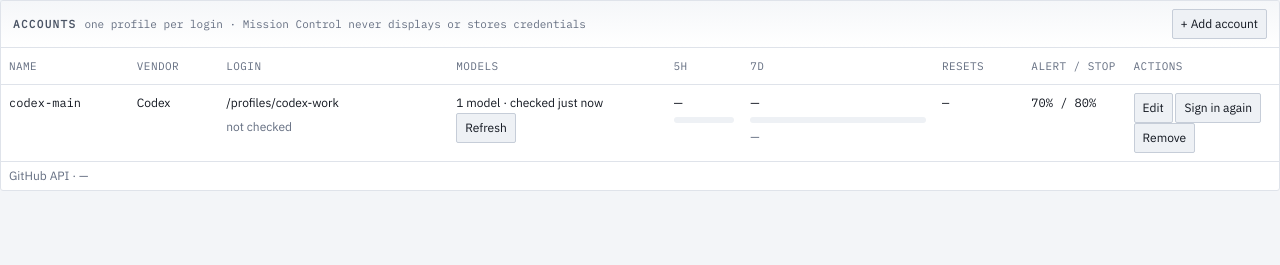
uses the selected Codex profile in the operator command
Click the button "Sign in again" at (1218, 108), box [1176,93,1261,123]
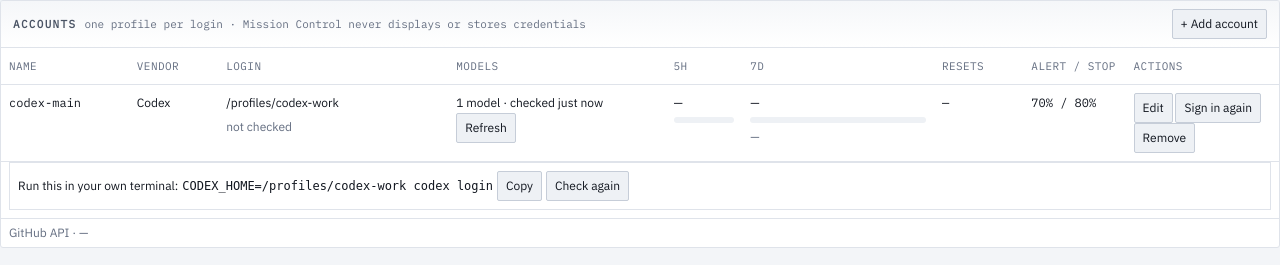
Expected: the element named "Sign in again for codex-main" shows "CODEX_HOME=/profiles/codex-work codex login", [182,179,493,193]
